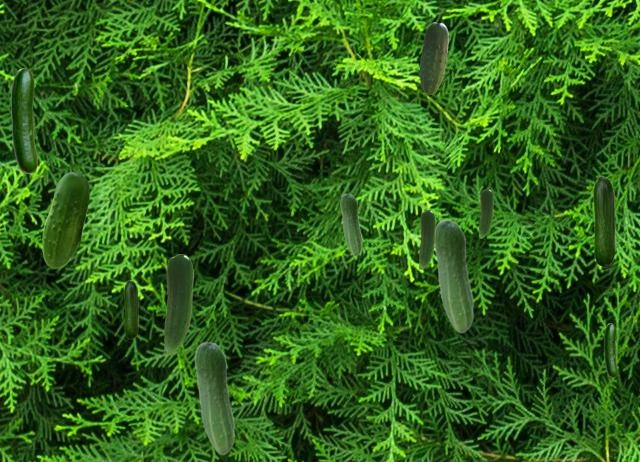cucumber: (194, 341, 234, 454), (42, 172, 88, 267), (435, 219, 473, 332), (164, 254, 192, 353), (11, 68, 36, 172), (419, 22, 447, 93), (593, 176, 614, 266), (340, 193, 361, 255), (419, 210, 434, 268), (124, 280, 137, 338), (604, 323, 616, 376), (479, 189, 492, 237)
